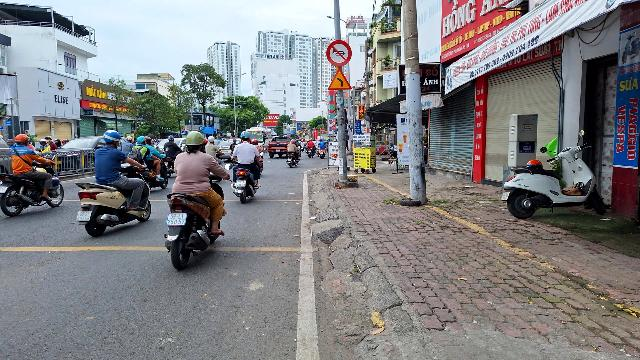cam-bop-coi: (326, 39, 352, 66)
cho-ngoat-nguy-hiem-ben-trai: (328, 67, 352, 90)
